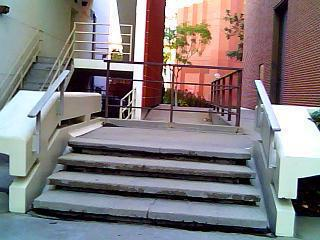Escaleras: (25, 141, 277, 231), (0, 56, 72, 135)
